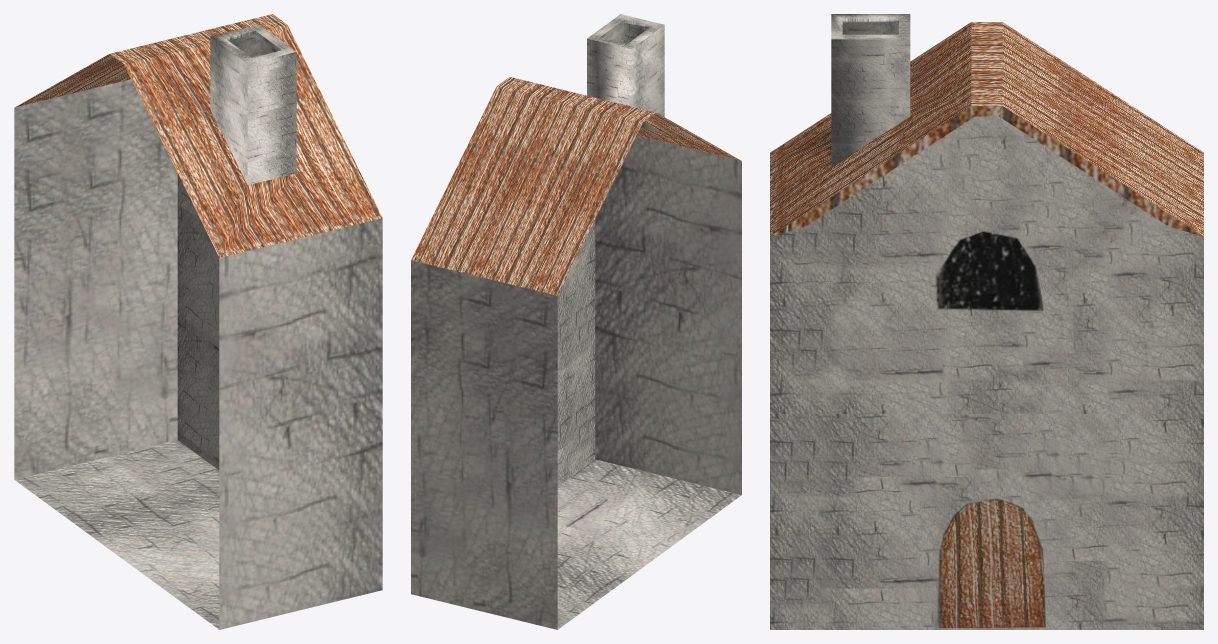
The model's file is casetta 2.fbx.
The picture shows the model from 3 angles, left to right: view 1: azimuth 30°, elevation 25°; view 2: azimuth 150°, elevation 25°; view 3: azimuth 270°, elevation 25°; orthographic projection. The views are drawn at different scales.
Visible parts, largest first — view 1: Cube; view 2: Cube; view 3: Cube.
Part boxes in pixels (x1,y1,x2,y2): Cube: [14, 14, 382, 629]; Cube: [411, 14, 741, 629]; Cube: [770, 14, 1203, 629].
Size of the model in its own units: 91.84 by 285 by 200.
